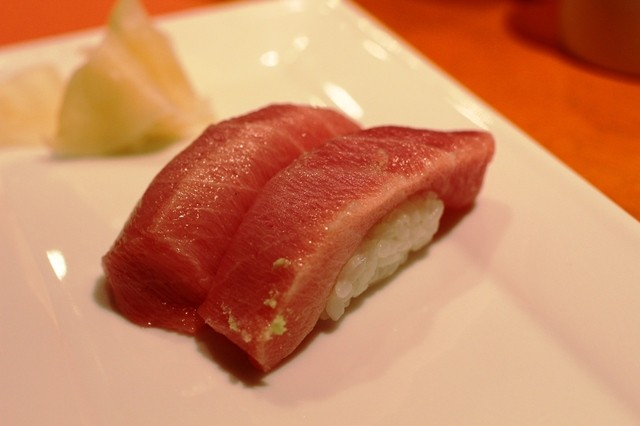medium_fatty_tuna: (216, 127, 496, 382)
